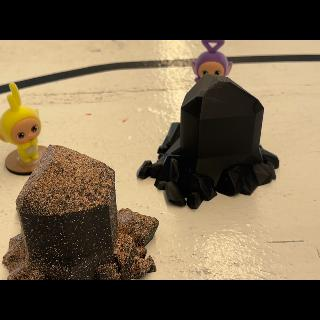teletubby: (0, 83, 41, 164), (192, 40, 232, 82)
